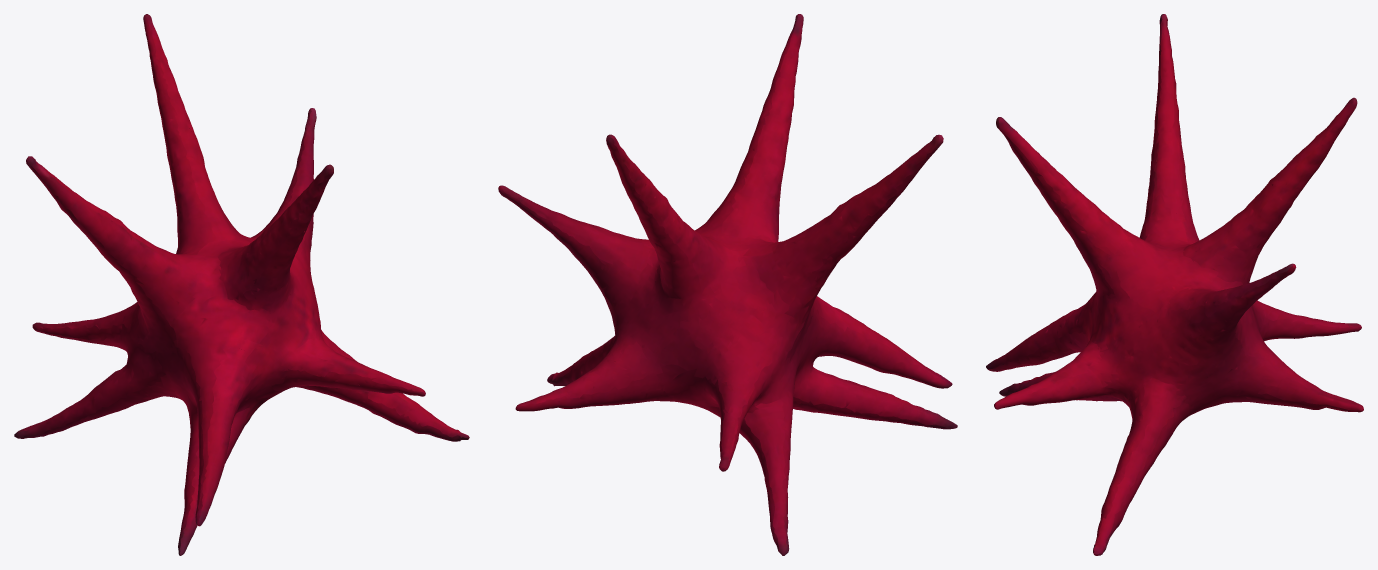
The picture shows the model from 3 angles, left to right: view 1: azimuth 30°, elevation 25°; view 2: azimuth 150°, elevation 25°; view 3: azimuth 270°, elevation 25°; orthographic projection. The views are drawn at different scales.
Visible parts, largest first — view 1: geometry_0.001; view 2: geometry_0.001; view 3: geometry_0.001.
Part boxes in pixels (left/top/right/bottom): geometry_0.001: left=14, top=14, right=469, bottom=555; geometry_0.001: left=498, top=14, right=957, bottom=555; geometry_0.001: left=986, top=14, right=1363, bottom=555.
Size of the model in its own units: 1.99 by 1.76 by 1.63.
1 material, 1 textured.
